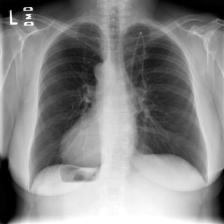normal: (24, 13, 212, 194)
